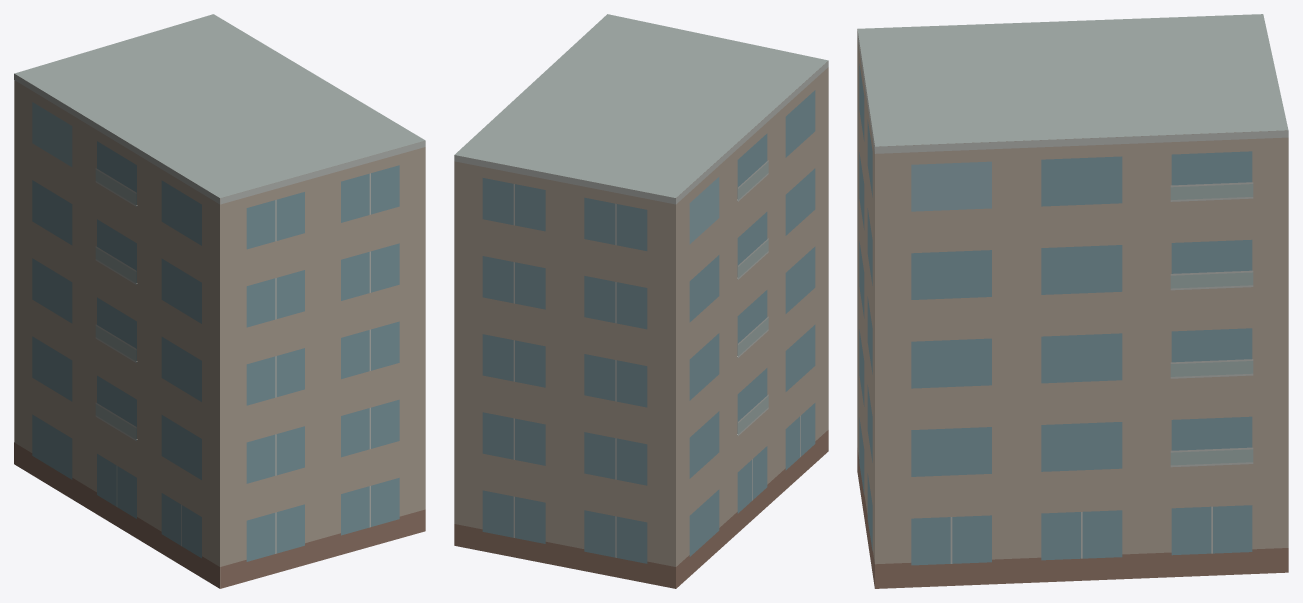
Rendered from survey-upis-32957028.glb.
3 views of the same model, side by side, from view 1: azimuth 30°, elevation 25°; view 2: azimuth 150°, elevation 25°; view 3: azimuth 270°, elevation 25° (orthographic). The views are drawn at different scales.
Visible parts, largest first — view 1: survey-upis-32957028.tmp; view 2: survey-upis-32957028.tmp; view 3: survey-upis-32957028.tmp.
Boxes of the visible parts, x1,y1,x2,y2 form: survey-upis-32957028.tmp: (14, 14, 425, 588); survey-upis-32957028.tmp: (454, 14, 828, 588); survey-upis-32957028.tmp: (857, 14, 1288, 588).
Size of the model in its own units: 9.59 by 14.9 by 13.17.
